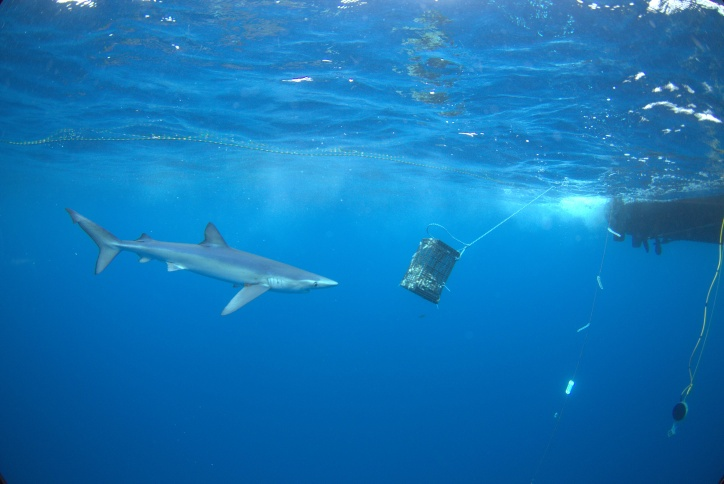Azul: (50, 192, 354, 333)
